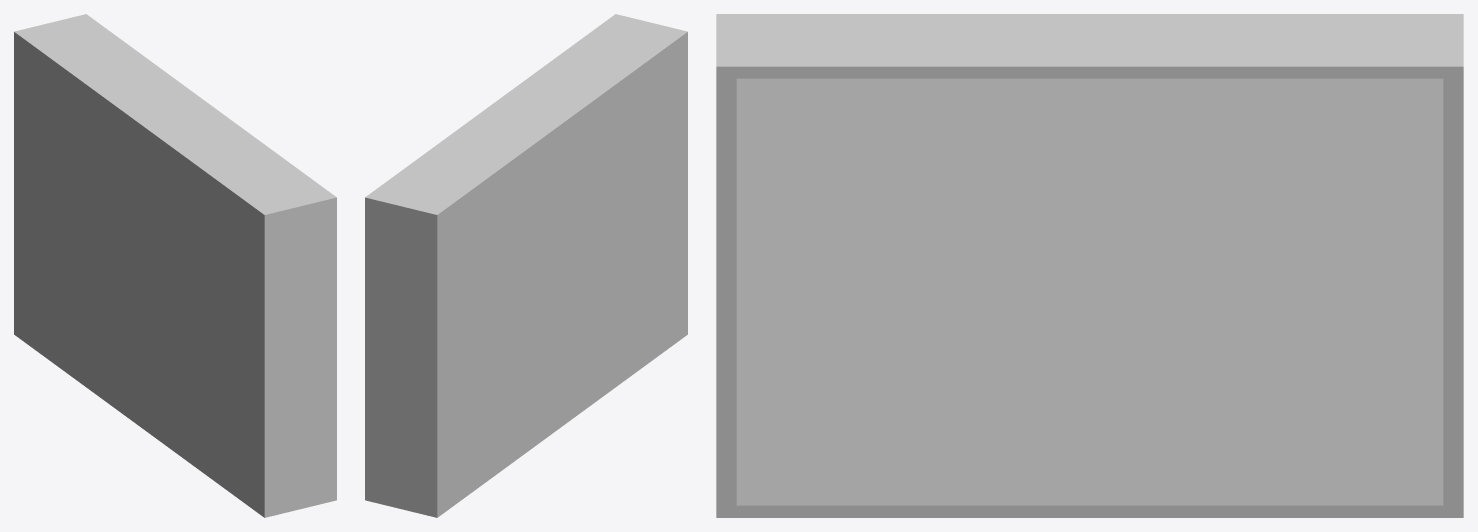
Rendered from shelf.glb.
3 renders of one model, left to right at view 1: azimuth 30°, elevation 25°; view 2: azimuth 150°, elevation 25°; view 3: azimuth 270°, elevation 25°, orthographic. The views are drawn at different scales.
Visible parts, largest first — view 1: Cube; view 2: Cube; view 3: Cube.
Part boxes in pixels (x1,y1,x2,y2): Cube: (14, 14, 336, 517); Cube: (365, 14, 687, 517); Cube: (716, 14, 1463, 517).
Bounding box in the file's own units: 2 × 8 × 12.
Materials: 2 (1 with a texture image).
